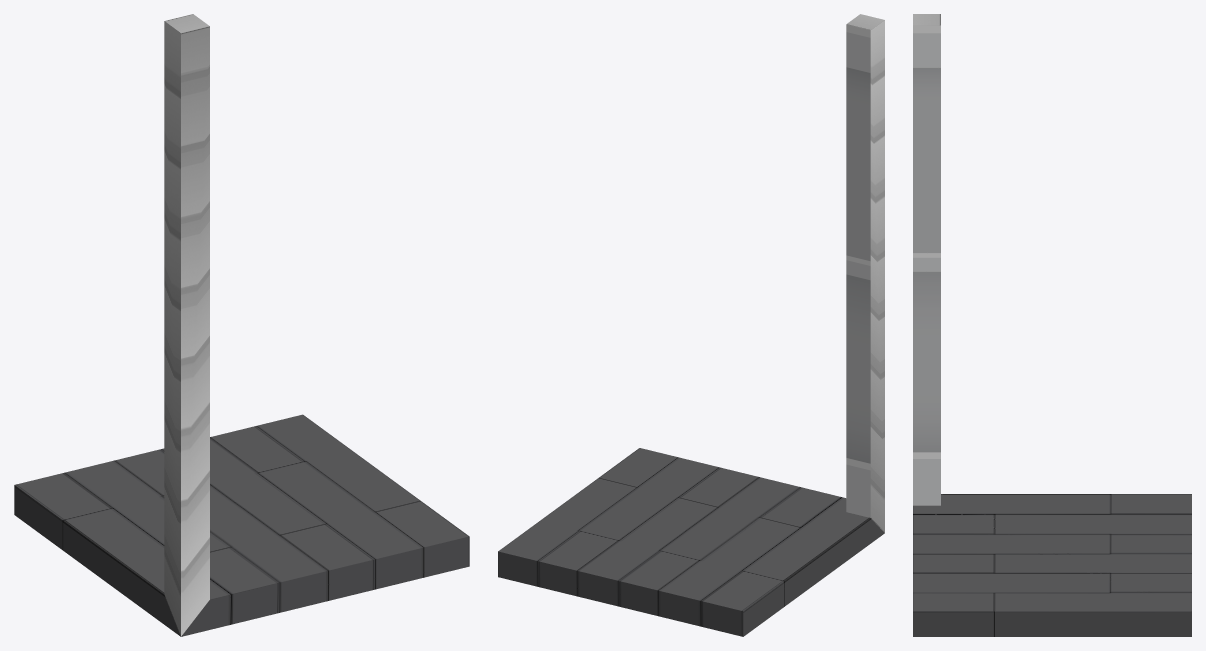
The model's file is building_02_inner_corner_tile.obj.
The picture shows the model from 3 angles, left to right: view 1: azimuth 30°, elevation 25°; view 2: azimuth 150°, elevation 25°; view 3: azimuth 270°, elevation 25°; orthographic projection. The views are drawn at different scales.
Parts seen in each view (by area): view 1: InnerCorner_Cube.003; view 2: InnerCorner_Cube.003; view 3: InnerCorner_Cube.003.
Boxes of the visible parts, <box> form: InnerCorner_Cube.003: <box>14,14,469,636</box>; InnerCorner_Cube.003: <box>498,14,884,636</box>; InnerCorner_Cube.003: <box>913,14,1191,636</box>.
Bounding box in the file's own units: 2 × 4 × 2.
